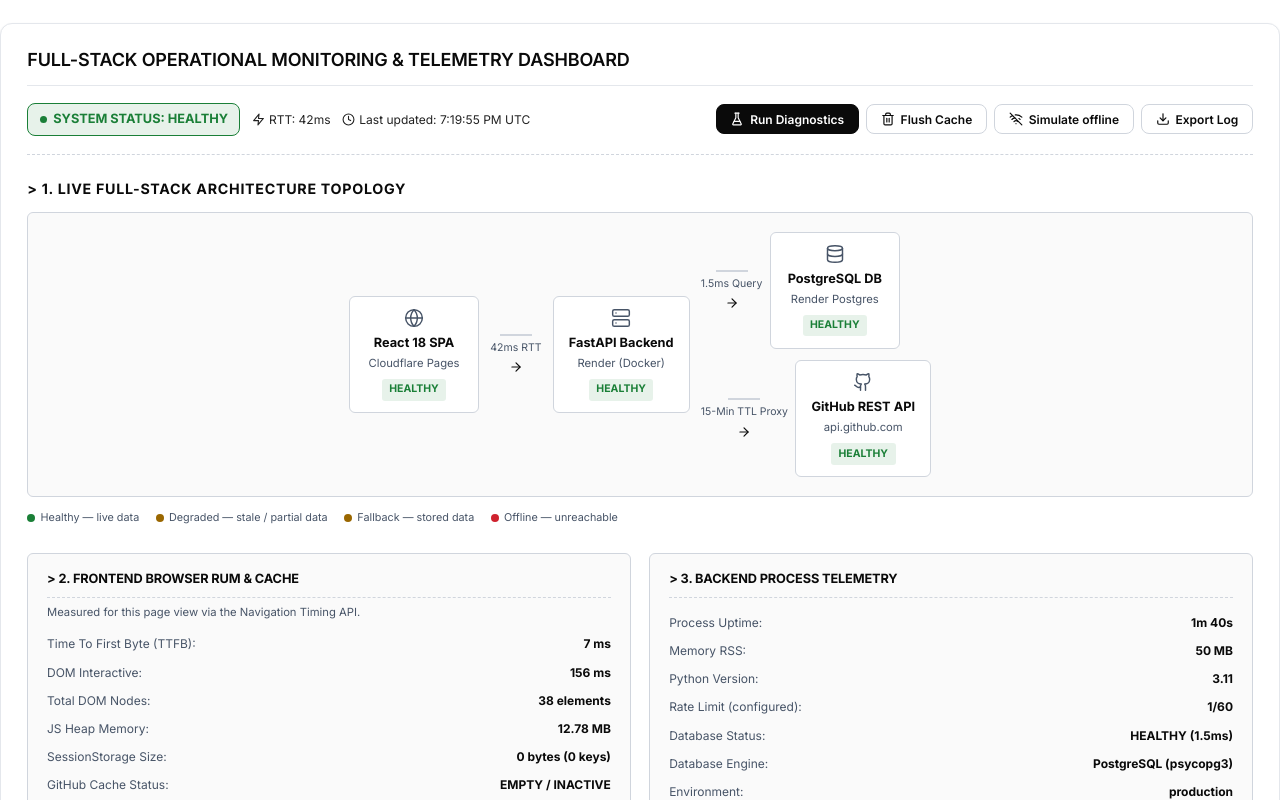
Test: FullStackMonitoringDashboard Component Unit Tests › toggles simulated offline mode when button is clicked
Click the button "Simulate offline" at (1064, 119), box [994,104,1134,134]
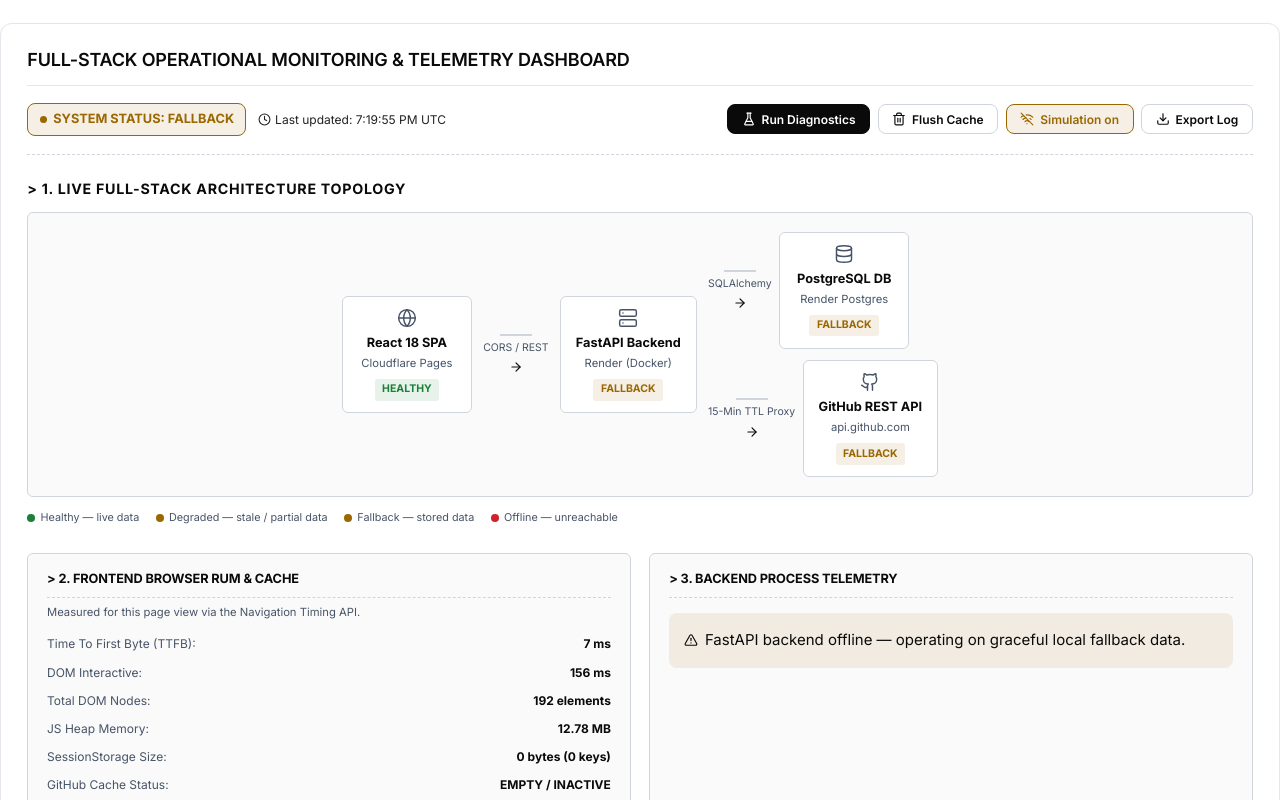
Expected: the button "Simulation on" is shown
Click the button "Simulation on" at (1070, 119), box [1006,104,1134,134]
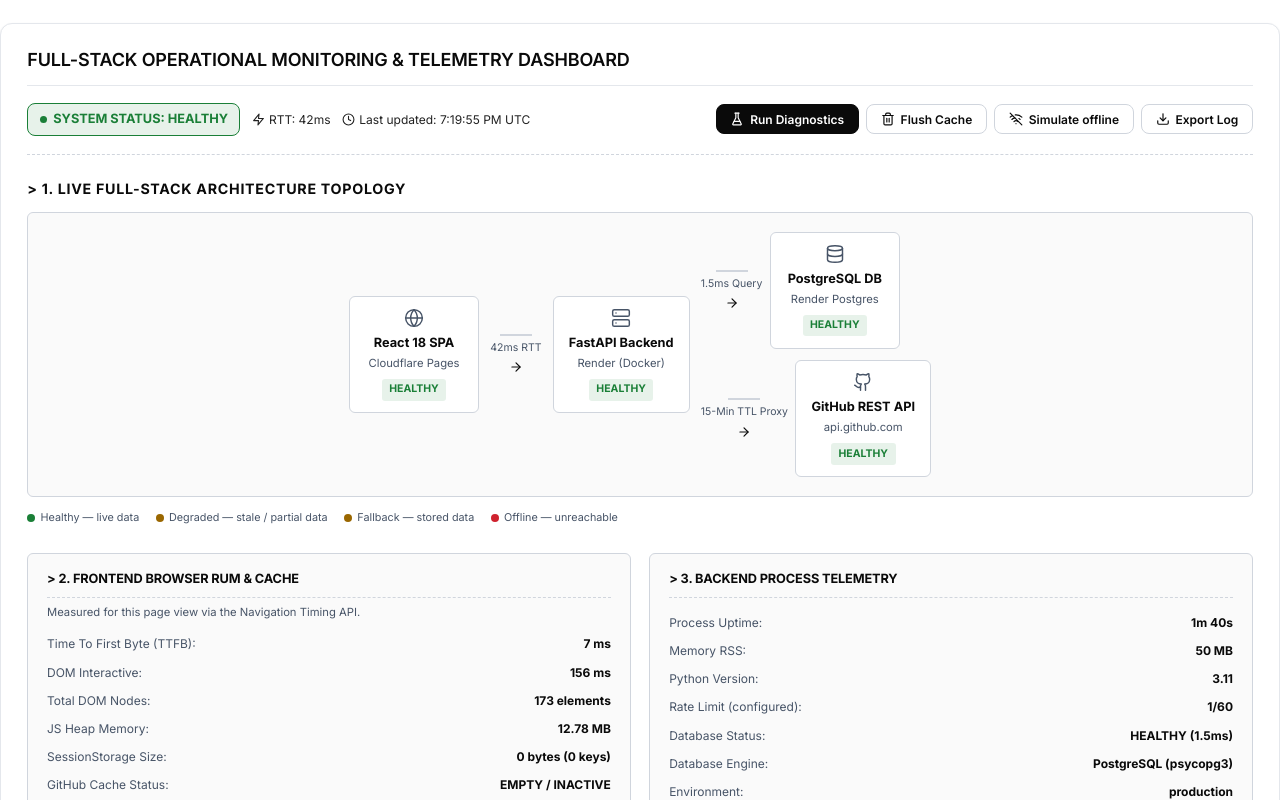
Expected: the button "Simulate offline" is shown, [994,104,1134,134]
